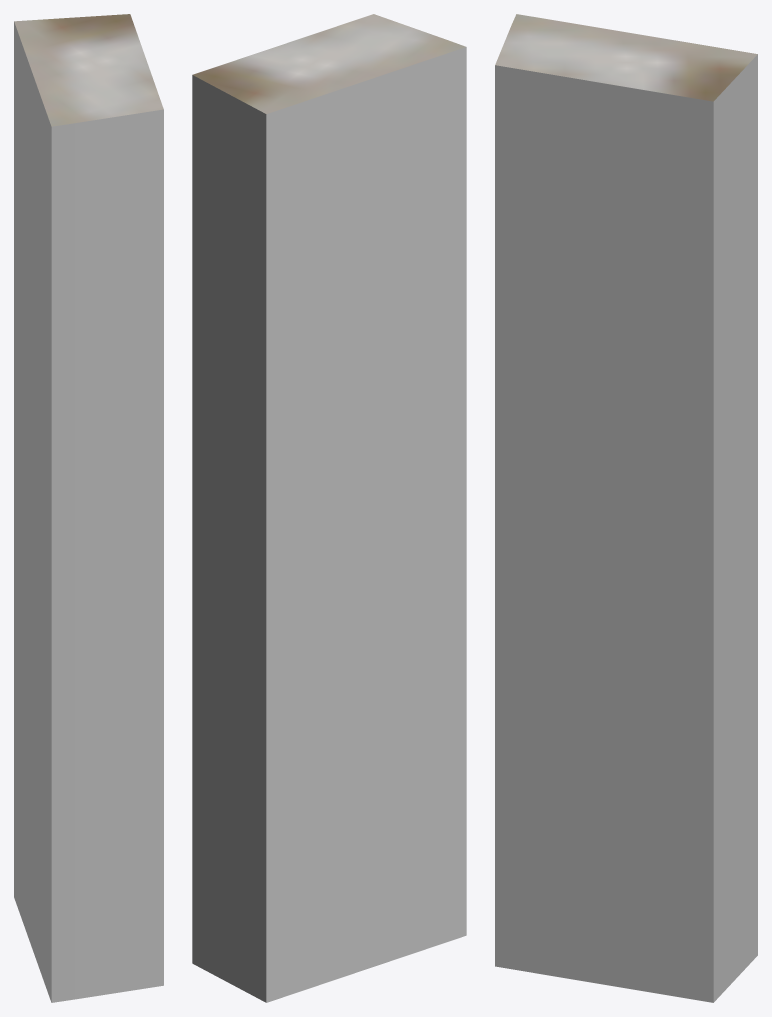
Rendered from DEBW_0010007THXy.gltf.
The picture shows the model from 3 angles, left to right: view 1: azimuth 30°, elevation 25°; view 2: azimuth 150°, elevation 25°; view 3: azimuth 270°, elevation 25°; orthographic projection. The views are drawn at different scales.
Parts seen in each view (by area): view 1: Z_UP; view 2: Z_UP; view 3: Z_UP.
Part boxes in pixels (x1,y1,x2,y2): Z_UP: [14, 14, 163, 1002]; Z_UP: [192, 14, 466, 1002]; Z_UP: [495, 14, 757, 1002].
Bounding box in the file's own units: 2.62 × 12.56 × 3.32.
Materials: 2 (1 with a texture image).
